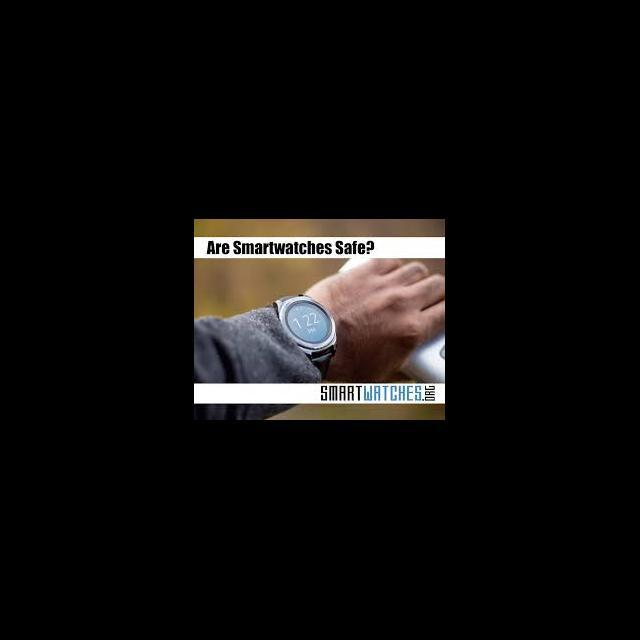watch: (256, 270, 358, 382)
